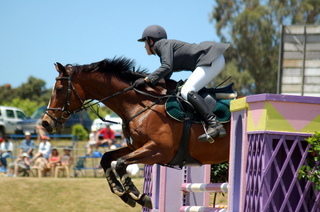person: (134, 25, 232, 143)
